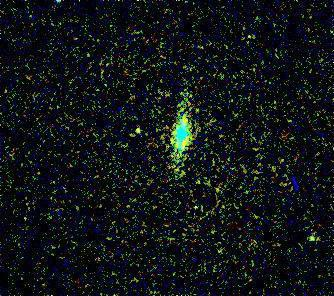star: (124, 115, 154, 145)
